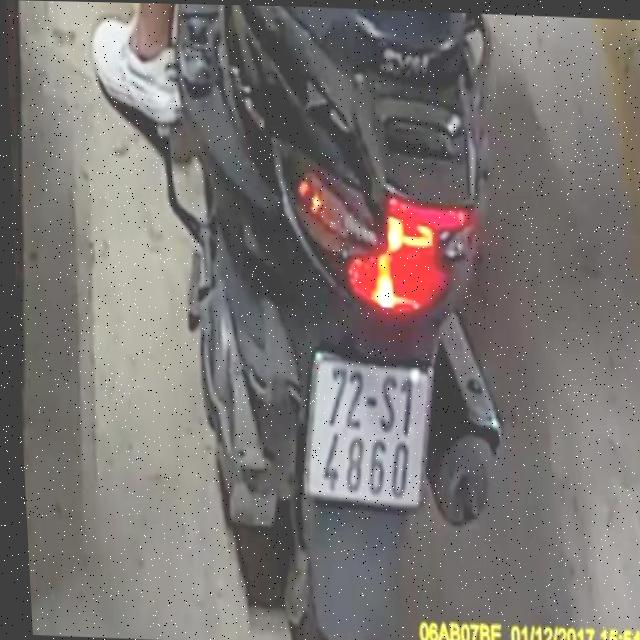motorcycle: (155, 3, 527, 640)
plate: (298, 341, 436, 509)
